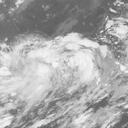cyclone: (24, 33, 92, 93)
